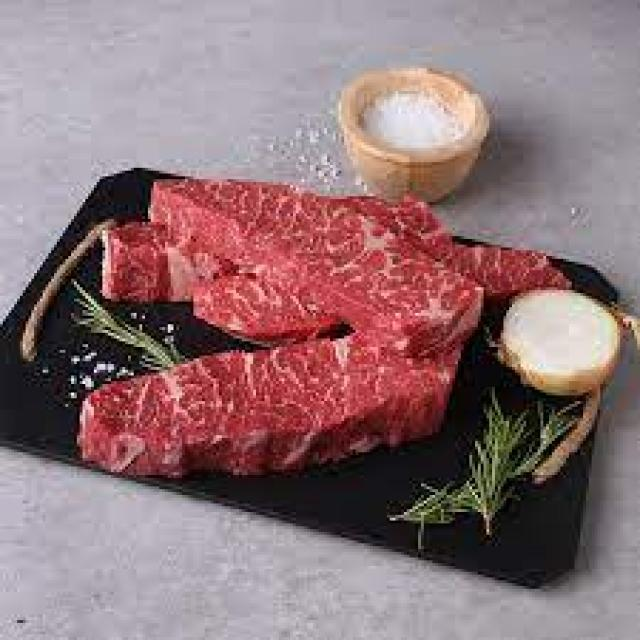beef: (151, 181, 486, 354)
